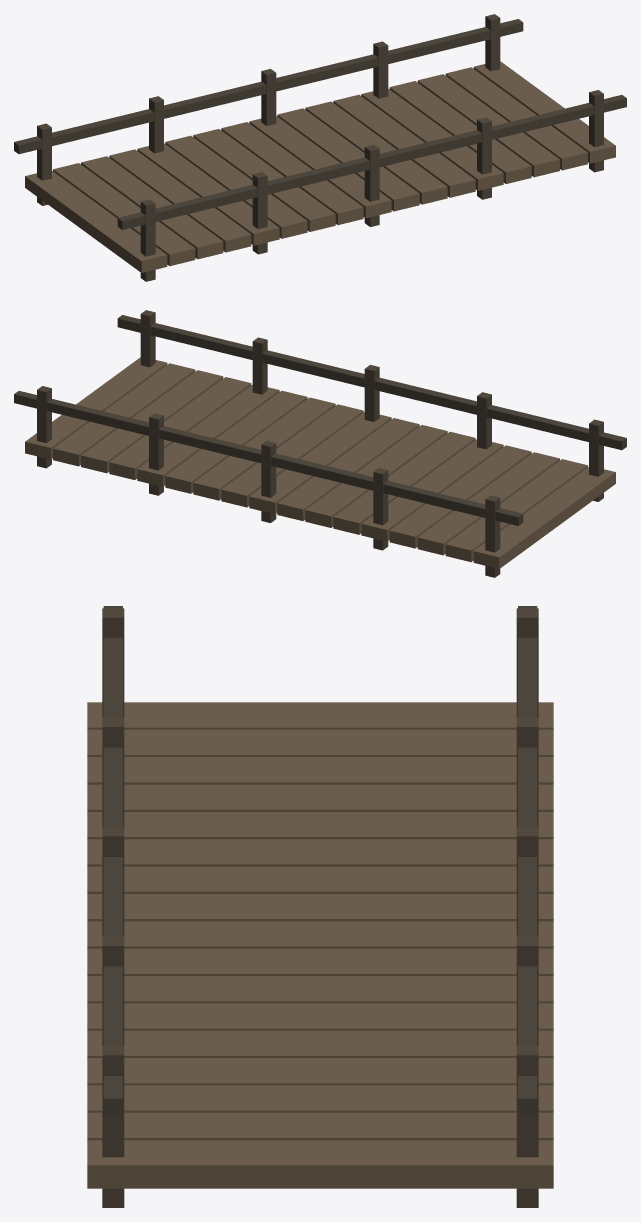
Rendered from Village_Bridge.glb.
The picture shows the model from 3 angles, top to bottom: view 1: azimuth 30°, elevation 25°; view 2: azimuth 150°, elevation 25°; view 3: azimuth 270°, elevation 25°; orthographic projection. The views are drawn at different scales.
Visible parts, largest first — view 1: _MeshInstance3D_4959, _MeshInstance3D_4953, _MeshInstance3D_4936, _MeshInstance3D_4943, _MeshInstance3D_4939, _MeshInstance3D_4947, _MeshInstance3D_4951, _MeshInstance3D_4946, _MeshInstance3D_4942, _MeshInstance3D_4938, _MeshInstance3D_4950, _MeshInstance3D_4945 (+17 smaller); view 2: _MeshInstance3D_4953, _MeshInstance3D_4959, _MeshInstance3D_4936, _MeshInstance3D_4943, _MeshInstance3D_4939, _MeshInstance3D_4947, _MeshInstance3D_4951, _MeshInstance3D_4946, _MeshInstance3D_4942, _MeshInstance3D_4938, _MeshInstance3D_4950, _MeshInstance3D_4945 (+17 smaller); view 3: _MeshInstance3D_4952, _MeshInstance3D_4951, _MeshInstance3D_4936, _MeshInstance3D_4938, _MeshInstance3D_4941, _MeshInstance3D_4944, _MeshInstance3D_4947, _MeshInstance3D_4950, _MeshInstance3D_4937, _MeshInstance3D_4939, _MeshInstance3D_4940, _MeshInstance3D_4942 (+17 smaller).
Boxes of the visible parts, x1,y1,x2,y2 form: _MeshInstance3D_4959: (117,95,626,229); _MeshInstance3D_4953: (14,19,523,154); _MeshInstance3D_4936: (25,171,167,272); _MeshInstance3D_4943: (221,122,363,224); _MeshInstance3D_4939: (109,149,251,252); _MeshInstance3D_4947: (333,94,475,197); _MeshInstance3D_4951: (445,67,587,170); _MeshInstance3D_4946: (305,101,447,204); _MeshInstance3D_4942: (193,129,335,231); _MeshInstance3D_4938: (81,156,223,259); _MeshInstance3D_4950: (417,74,559,177); _MeshInstance3D_4945: (277,108,419,211); _MeshInstance3D_4953: (14,391,523,525); _MeshInstance3D_4959: (117,315,626,450); _MeshInstance3D_4936: (473,467,615,568); _MeshInstance3D_4943: (277,418,419,520); _MeshInstance3D_4939: (389,445,531,548); _MeshInstance3D_4947: (165,390,307,493); _MeshInstance3D_4951: (53,363,195,466); _MeshInstance3D_4946: (193,397,335,500); _MeshInstance3D_4942: (305,425,447,527); _MeshInstance3D_4938: (417,452,559,555); _MeshInstance3D_4950: (81,370,223,473); _MeshInstance3D_4945: (221,404,363,507); _MeshInstance3D_4952: (87,1140,553,1188); _MeshInstance3D_4951: (87,1112,553,1140); _MeshInstance3D_4936: (87,702,553,729); _MeshInstance3D_4938: (87,757,553,784); _MeshInstance3D_4941: (87,839,553,866); _MeshInstance3D_4944: (87,921,553,948); _MeshInstance3D_4947: (87,1003,553,1030); _MeshInstance3D_4950: (87,1085,553,1112); _MeshInstance3D_4937: (87,729,553,756); _MeshInstance3D_4939: (87,784,553,811); _MeshInstance3D_4940: (87,812,553,839); _MeshInstance3D_4942: (87,866,553,893).
Bounding box in the file's own units: 9 × 1.3 × 3.6.
